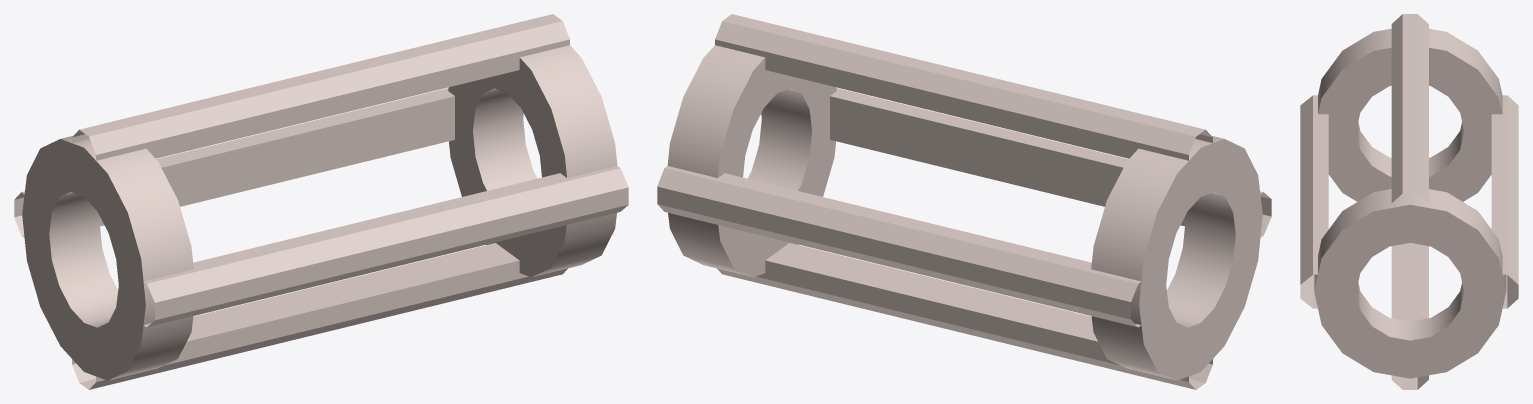
Rendered from Env_SetP_SpaceStation_ReactorPipingSmall_1x2.fbx.
3 views of the same model, side by side, from view 1: azimuth 30°, elevation 25°; view 2: azimuth 150°, elevation 25°; view 3: azimuth 270°, elevation 25° (orthographic). The views are drawn at different scales.
Visible parts, largest first — view 1: PipeThin; view 2: PipeThin; view 3: PipeThin.
Part boxes in pixels (left/top/right/bottom): PipeThin: left=14, top=14, right=628, bottom=389; PipeThin: left=657, top=14, right=1271, bottom=389; PipeThin: left=1300, top=14, right=1518, bottom=389.
Size of the model in its own units: 100 by 51.07 by 51.42.
